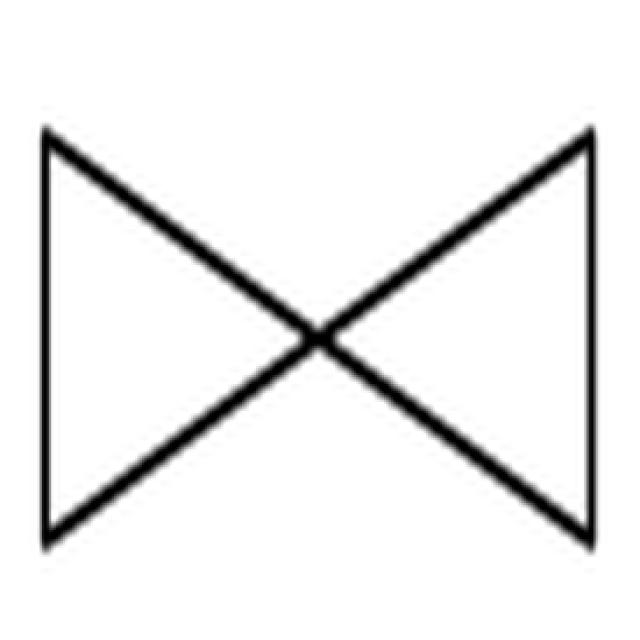Gate valve: (42, 128, 591, 546)
